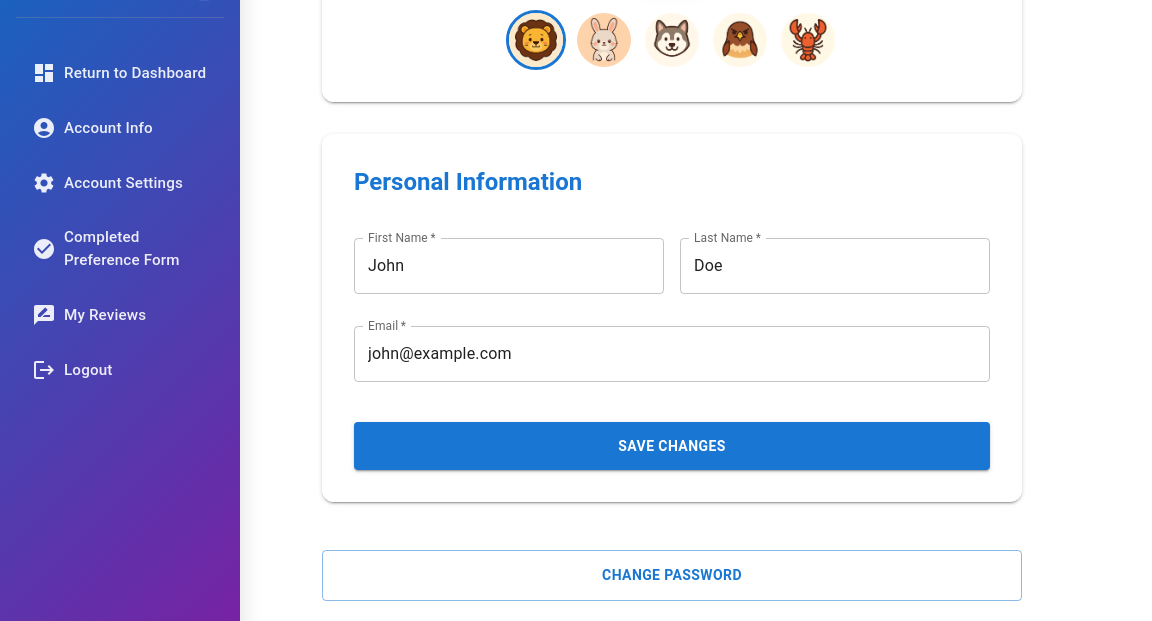
Test: AccountSettings Page › handles network error during save changes
(page scrolled)
Click the button "Save Changes": [672, 446] box [354,422,990,470]
(page scrolled)
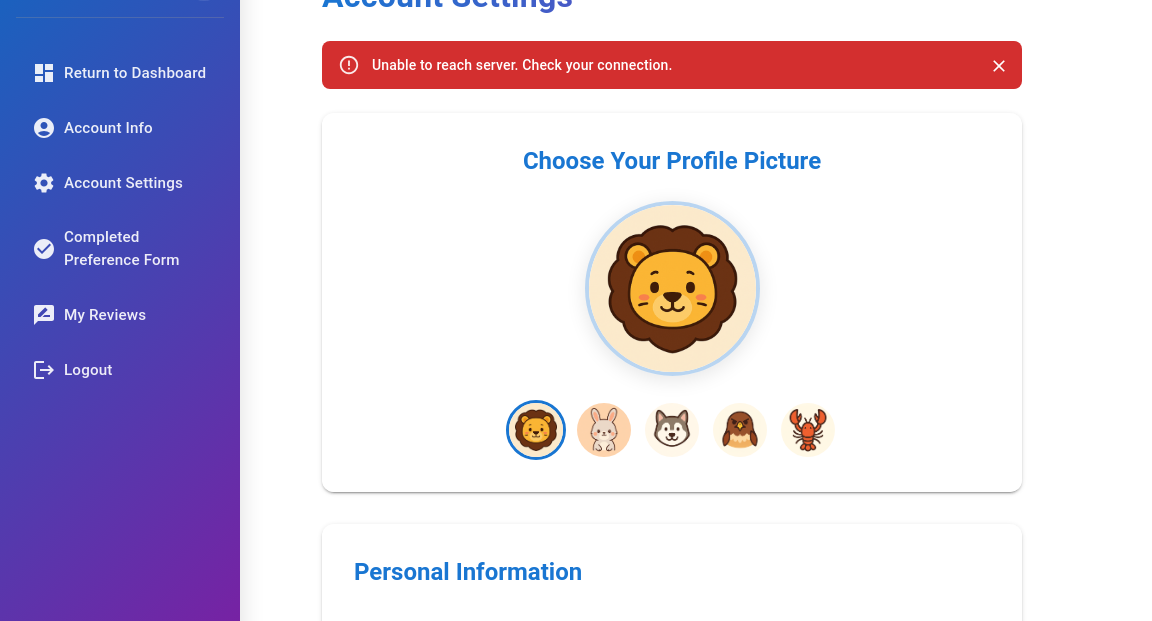
Now the text "Unable to reach server. Check your connection." is shown, box [372,56,673,72]
